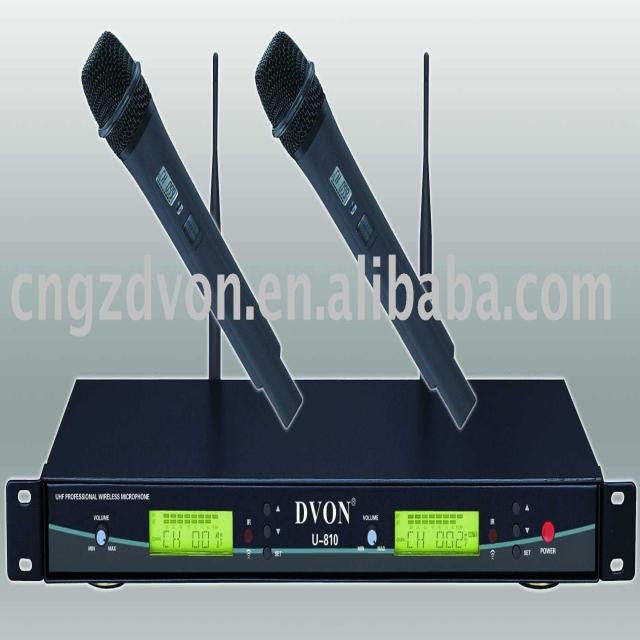microphone: (82, 32, 286, 410), (264, 35, 455, 422)
